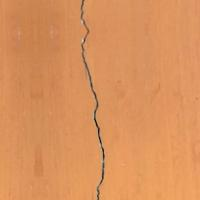crack: (66, 0, 117, 199)
